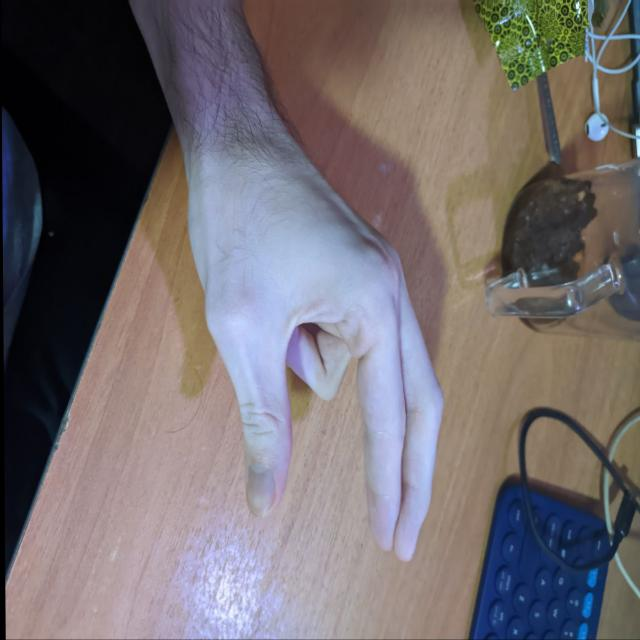ia: (175, 106, 452, 568)
